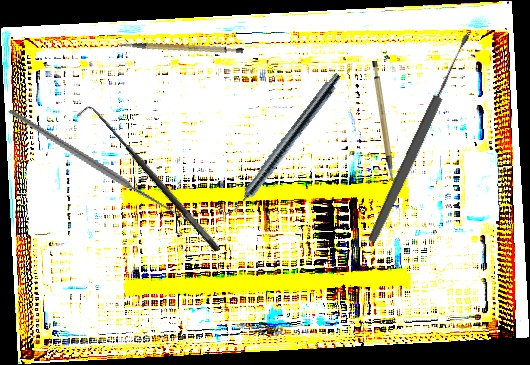Handpiece: (222, 68, 345, 223)
Hook Surgical: (6, 54, 200, 272), (74, 97, 223, 263)
Scalpel Handle: (118, 23, 245, 70), (370, 61, 394, 181)
Surgical Spoon: (364, 31, 475, 246)
